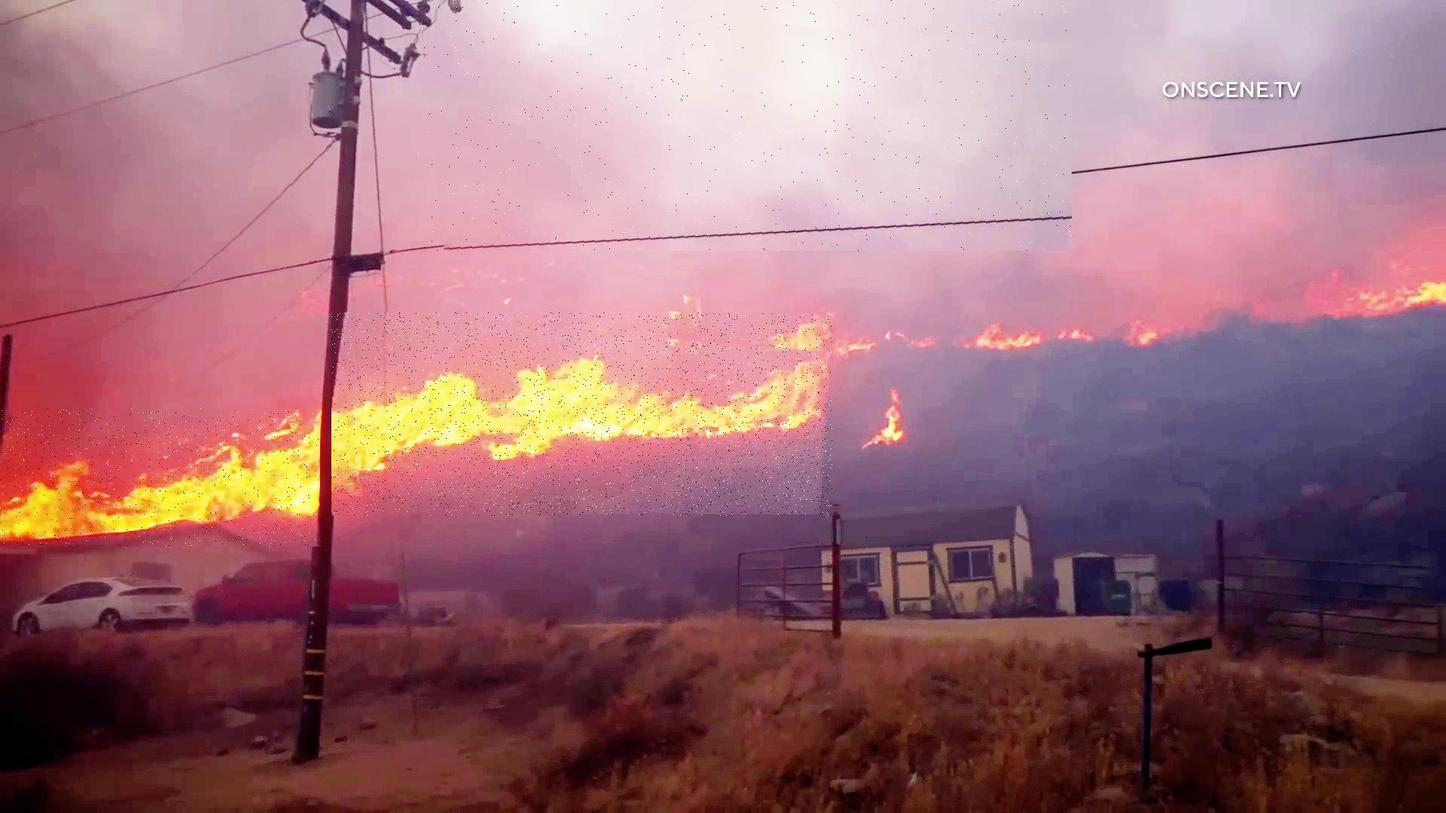fire: (332, 313, 833, 516), (0, 409, 320, 547)
smoke: (418, 0, 1072, 251)
